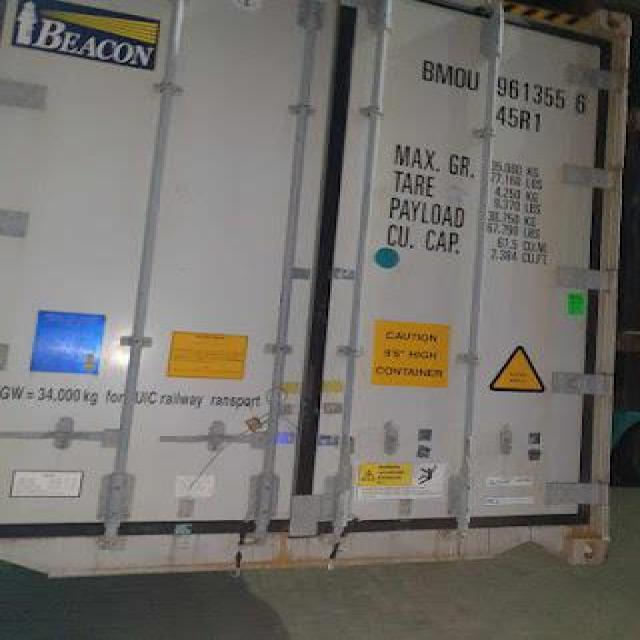ISO: (494, 106, 546, 133)
container_number: (416, 62, 596, 114)
